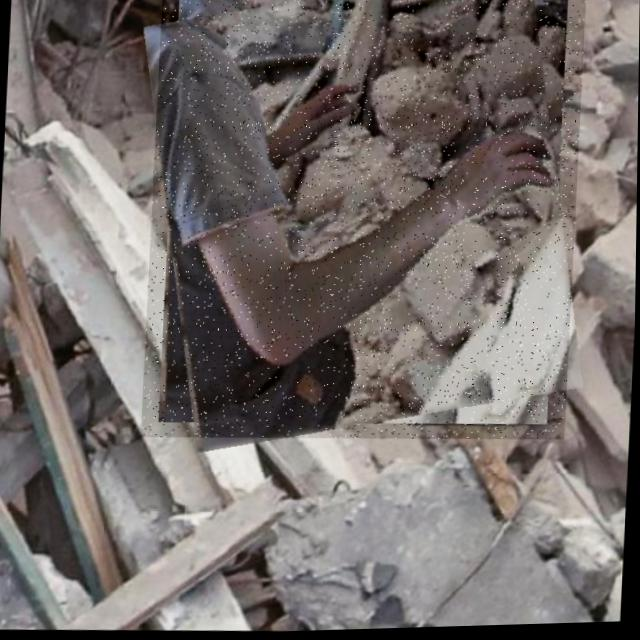Person in Rubble: (142, 0, 586, 453)
